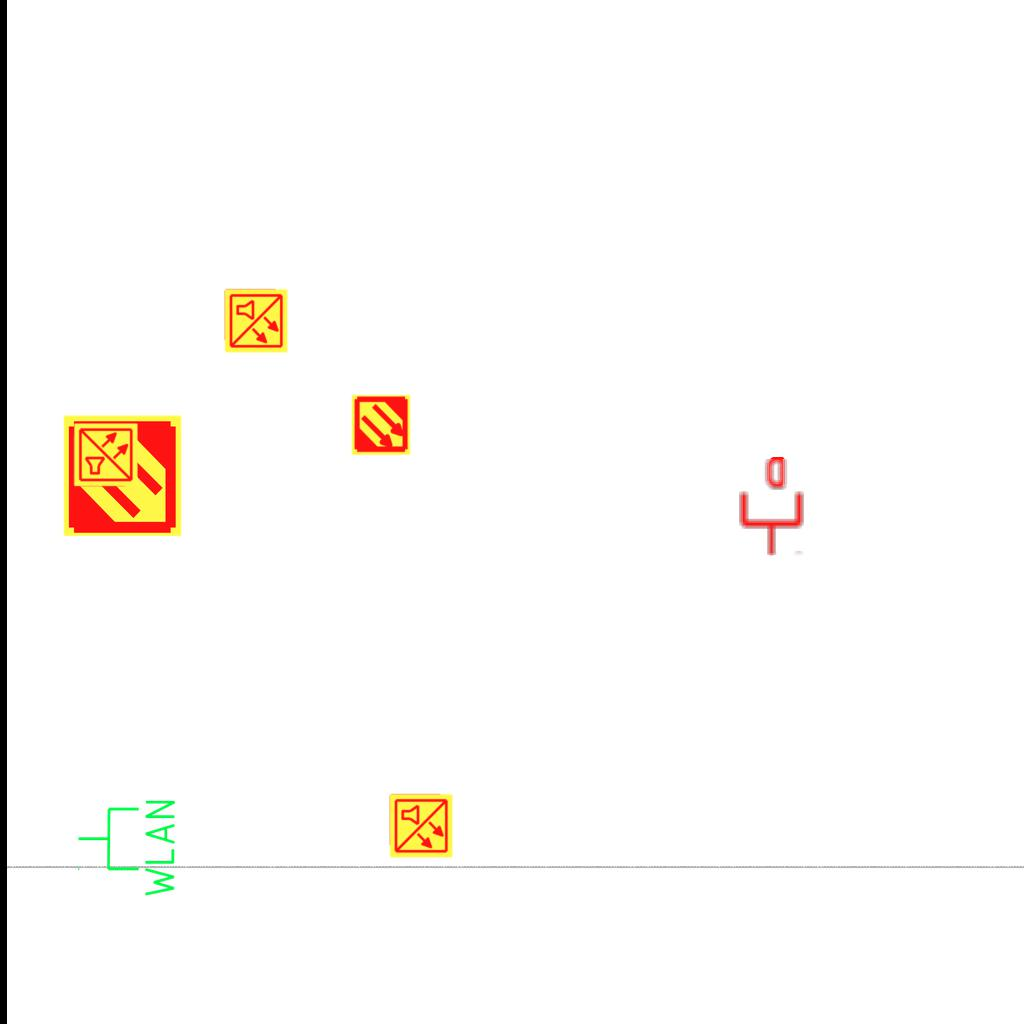ASR_Ansaugrauchmelder: (60, 413, 185, 538), (350, 394, 412, 456)
Datenanschluss_einfach: (737, 457, 806, 557)
OKW_Multisensormelder_(Kombination_optischer_Rauch-Kahlenmonoxid_Waerme-Melder): (388, 793, 454, 859), (223, 288, 289, 354), (73, 422, 139, 488)
WLAN: (75, 796, 179, 901)
